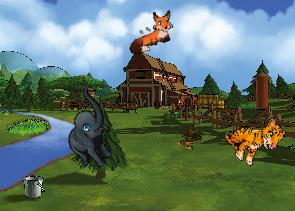elephant: (46, 86, 134, 175)
fox: (120, 6, 181, 57)
tiger: (219, 103, 289, 172)
